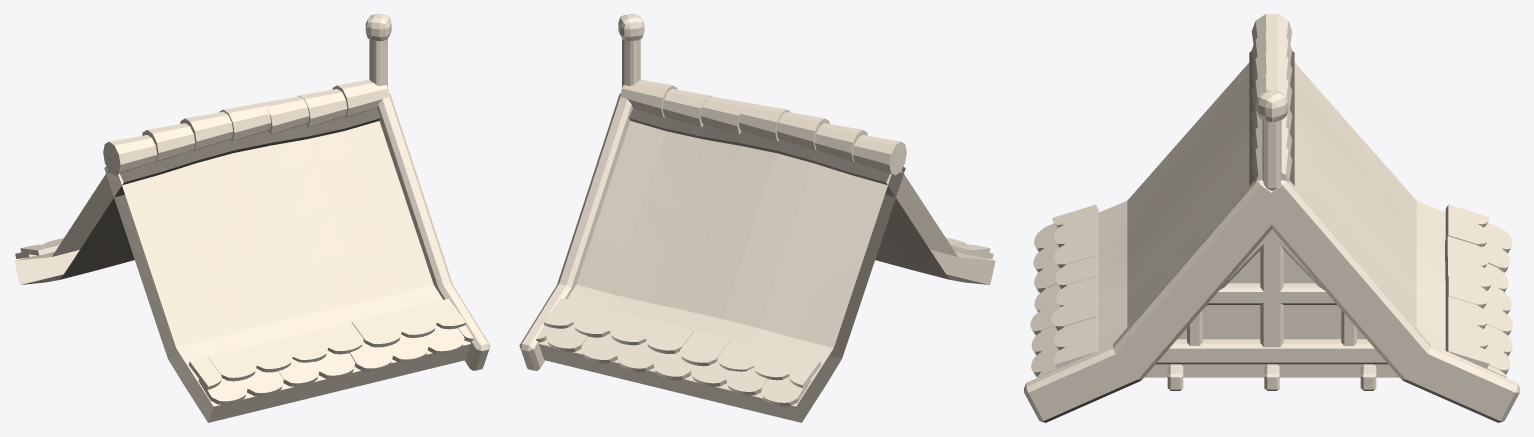
The model's file is SM_VK_RoofS_Gable.fbx.
3 renders of one model, left to right at view 1: azimuth 30°, elevation 25°; view 2: azimuth 150°, elevation 25°; view 3: azimuth 270°, elevation 25°, orthographic. The views are drawn at different scales.
Visible parts, largest first — view 1: SM_VK_RoofS_Gable.001; view 2: SM_VK_RoofS_Gable.001; view 3: SM_VK_RoofS_Gable.001.
Boxes of the visible parts, x1,y1,x2,y2 form: SM_VK_RoofS_Gable.001: [14, 14, 490, 422]; SM_VK_RoofS_Gable.001: [519, 14, 995, 422]; SM_VK_RoofS_Gable.001: [1024, 14, 1519, 422].
Size of the model in its own units: 3.88 by 3.75 by 5.14.
